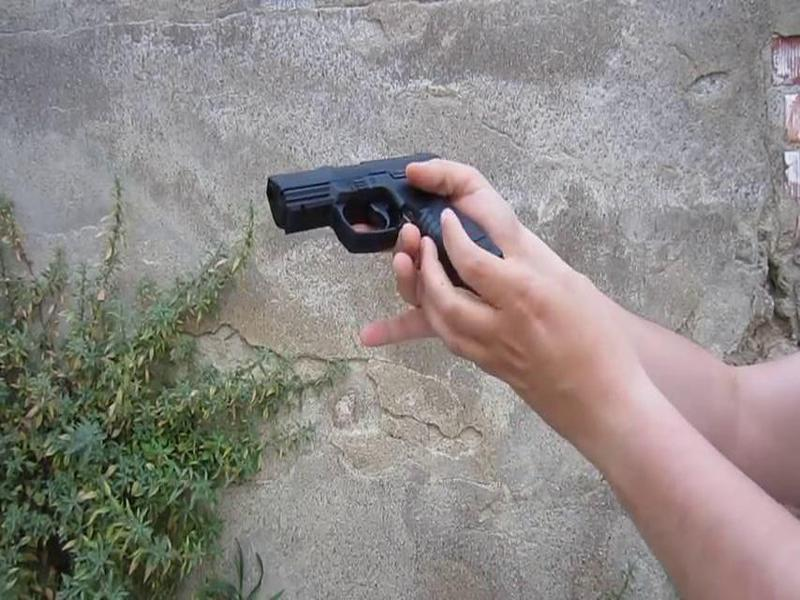Pistola: (247, 112, 526, 353)
